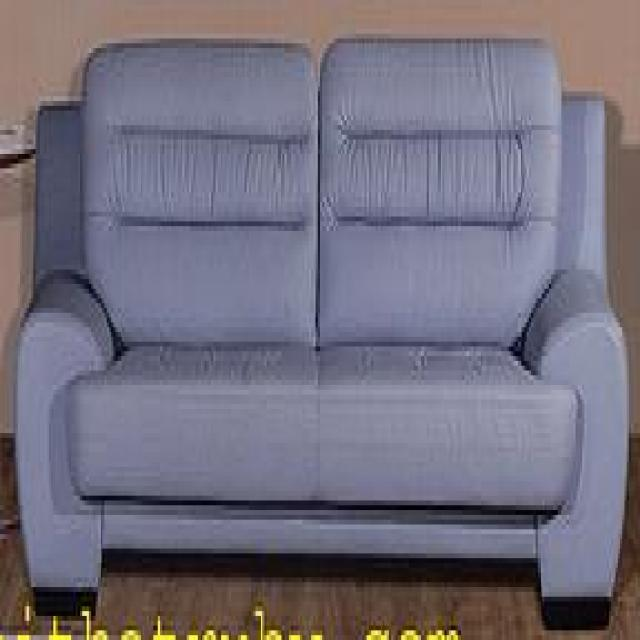sofa: (14, 39, 629, 631)
